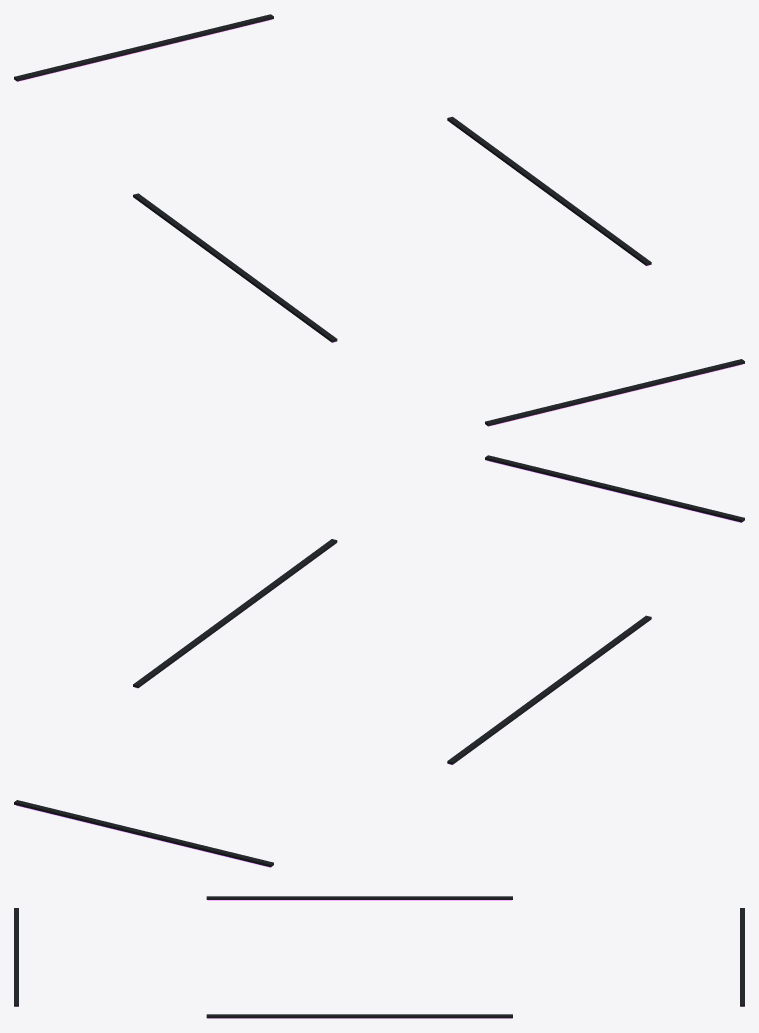
The model's file is apex_v8.glb.
3 renders of one model, top to bottom at view 1: azimuth 30°, elevation 25°; view 2: azimuth 150°, elevation 25°; view 3: azimuth 270°, elevation 25°, orthographic. The views are drawn at different scales.
Visible parts, largest first — view 1: model; view 2: model; view 3: model.
Boxes of the visible parts, x1=… form: model: x1=14, y1=14, x2=744, y2=426; model: x1=14, y1=455, x2=744, y2=867; model: x1=14, y1=896, x2=744, y2=1018.
Size of the model in its own units: 1.64 by 0.018 by 4.21.
Materials: 2 (1 with a texture image).
